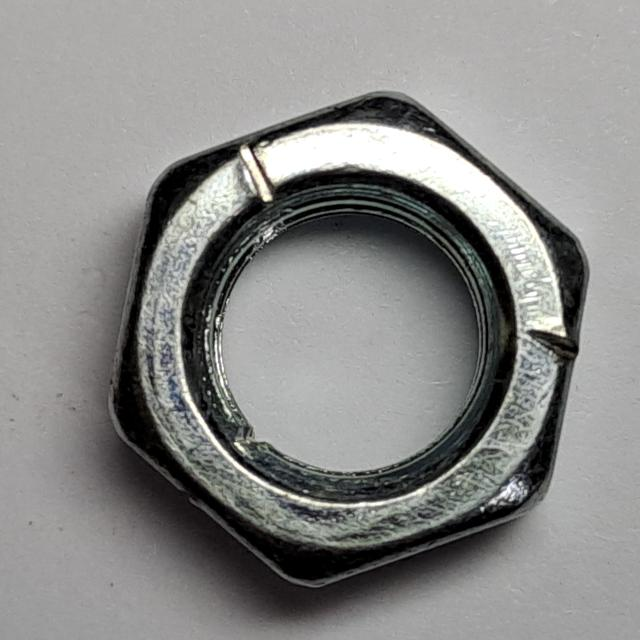Scratches: (98, 79, 603, 598)
